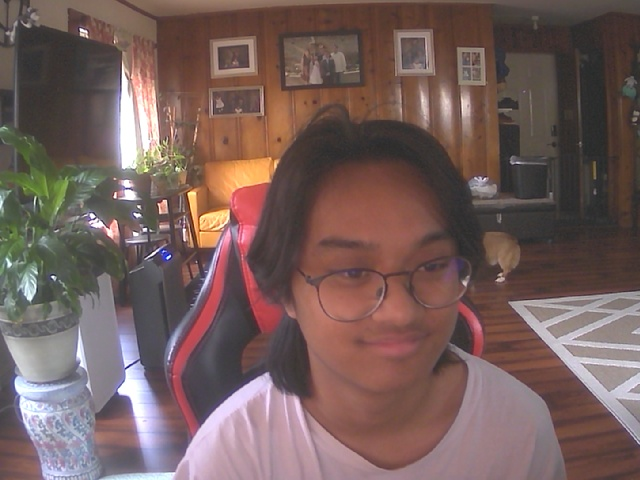happy: (277, 139, 482, 398)
